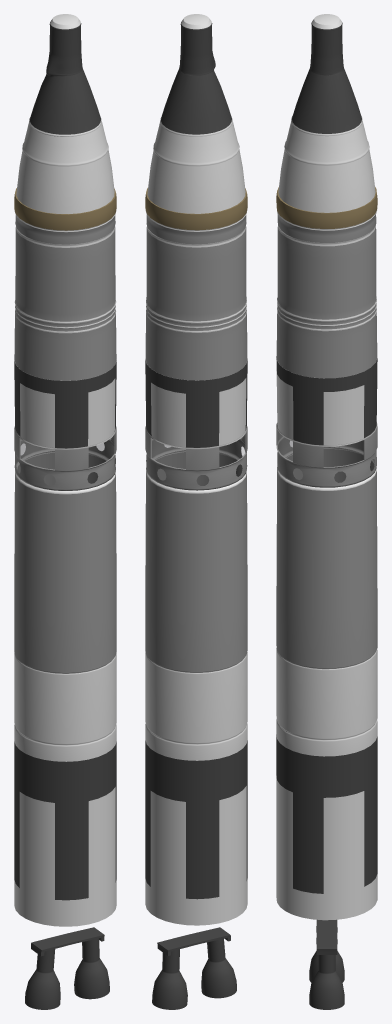
The model's file is TITAN.fbx.
The picture shows the model from 3 angles, left to right: view 1: azimuth 30°, elevation 25°; view 2: azimuth 210°, elevation 25°; view 3: azimuth 270°, elevation 25°; orthographic projection.
Parts seen in each view (by area): view 1: STAGE_3, STAGE_2, CAPSULE, ENGEN2, ENGEN, THING; view 2: STAGE_3, STAGE_2, CAPSULE, ENGEN, ENGEN2, THING; view 3: STAGE_3, STAGE_2, CAPSULE, ENGEN2, THING, ENGEN.
Boxes of the visible parts, <box> form: STAGE_3: <box>14,360,116,926</box>; STAGE_2: <box>14,188,116,380</box>; CAPSULE: <box>16,14,114,213</box>; ENGEN2: <box>74,938,109,999</box>; ENGEN: <box>25,949,60,1009</box>; THING: <box>31,927,104,956</box>; STAGE_3: <box>145,359,247,925</box>; STAGE_2: <box>145,188,247,380</box>; CAPSULE: <box>147,14,245,213</box>; ENGEN: <box>201,938,236,998</box>; ENGEN2: <box>152,949,187,1009</box>; THING: <box>157,927,230,955</box>; STAGE_3: <box>276,356,377,920</box>; STAGE_2: <box>276,187,377,378</box>; CAPSULE: <box>278,14,375,212</box>; ENGEN2: <box>309,955,344,1009</box>; THING: <box>316,919,337,954</box>; ENGEN: <box>309,951,344,982</box>.
Bounding box in the file's own units: 0.5846 × 6.19 × 0.5837.
